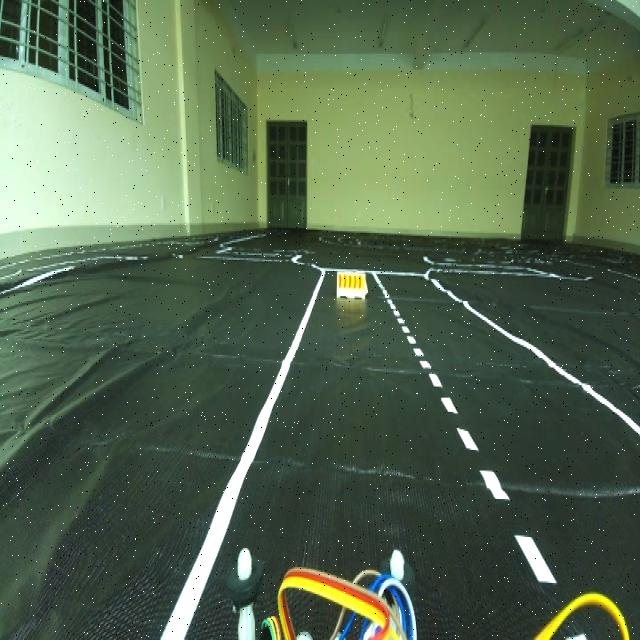roadblock: (331, 259, 369, 302)
